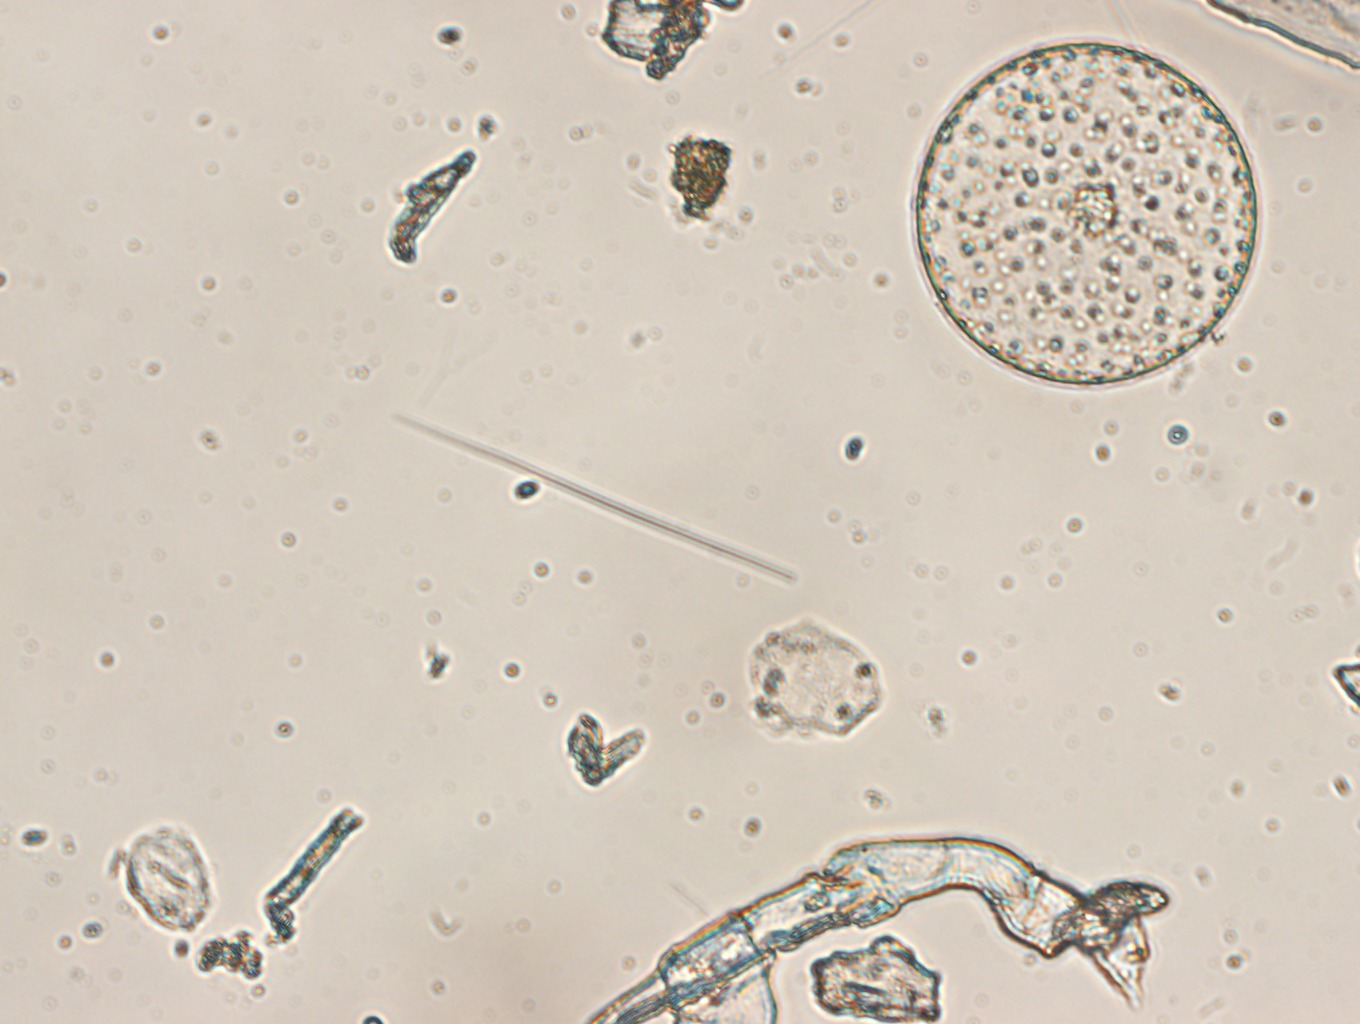coscinodiscus: (911, 40, 1259, 386)
